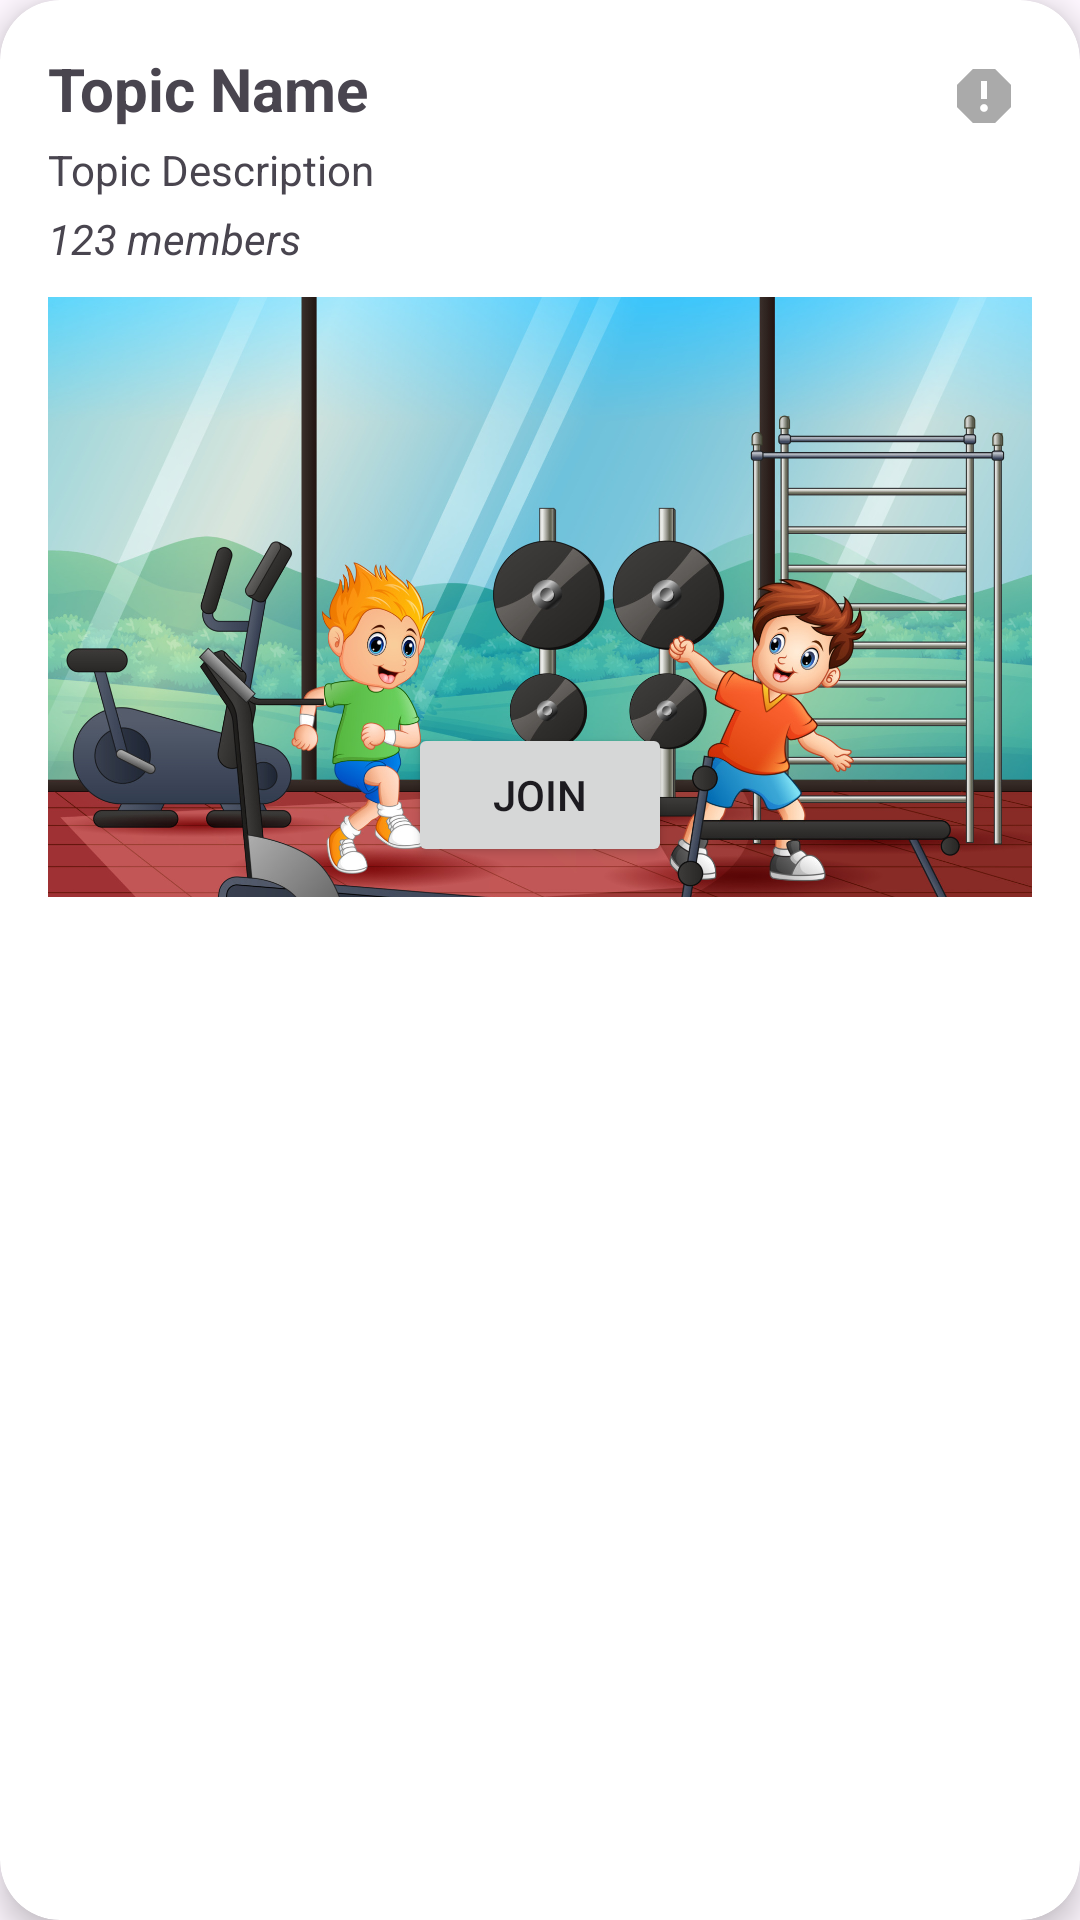

Screen size 1080*1920. Icon name, then its center in pixels as (x=x, y=y):
Report: (x=984, y=96)
